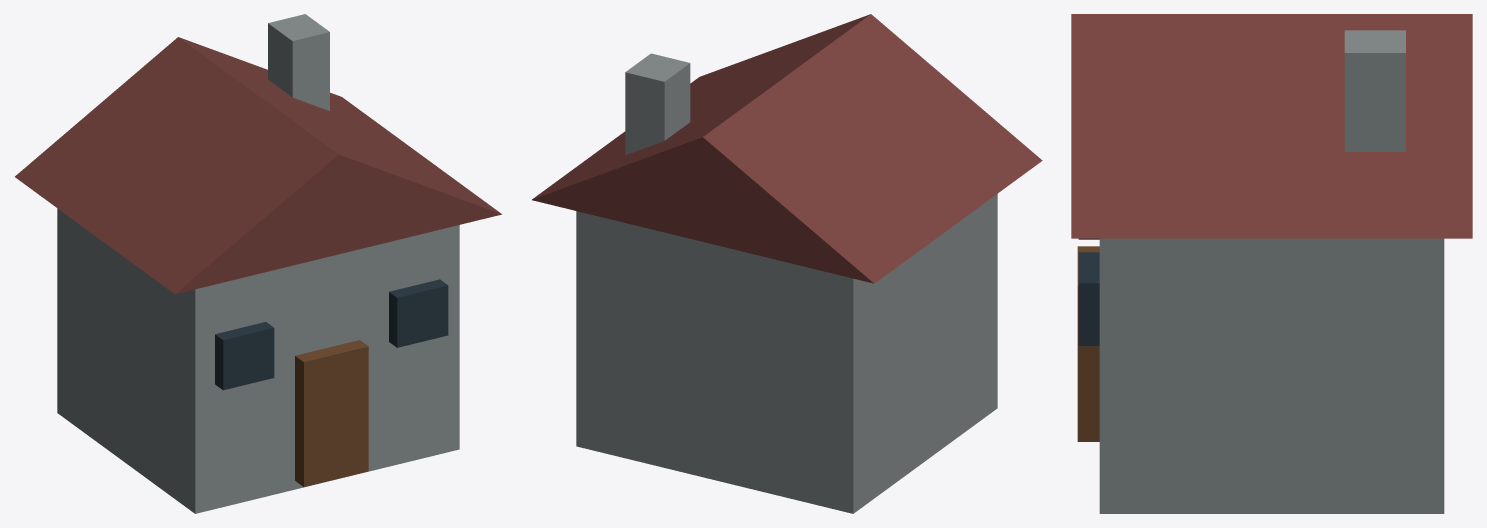
File: civilian.obj
3 views of the same model, side by side, from view 1: azimuth 30°, elevation 25°; view 2: azimuth 150°, elevation 25°; view 3: azimuth 270°, elevation 25° (orthographic). The views are drawn at different scales.
Visible parts, largest first — view 1: civilian; view 2: civilian; view 3: civilian.
Boxes of the visible parts, <box> form: civilian: <box>15,14,501,513</box>; civilian: <box>532,14,1042,513</box>; civilian: <box>1071,14,1472,513</box>.
Size of the model in its own units: 1.92 by 1.98 by 1.63.
